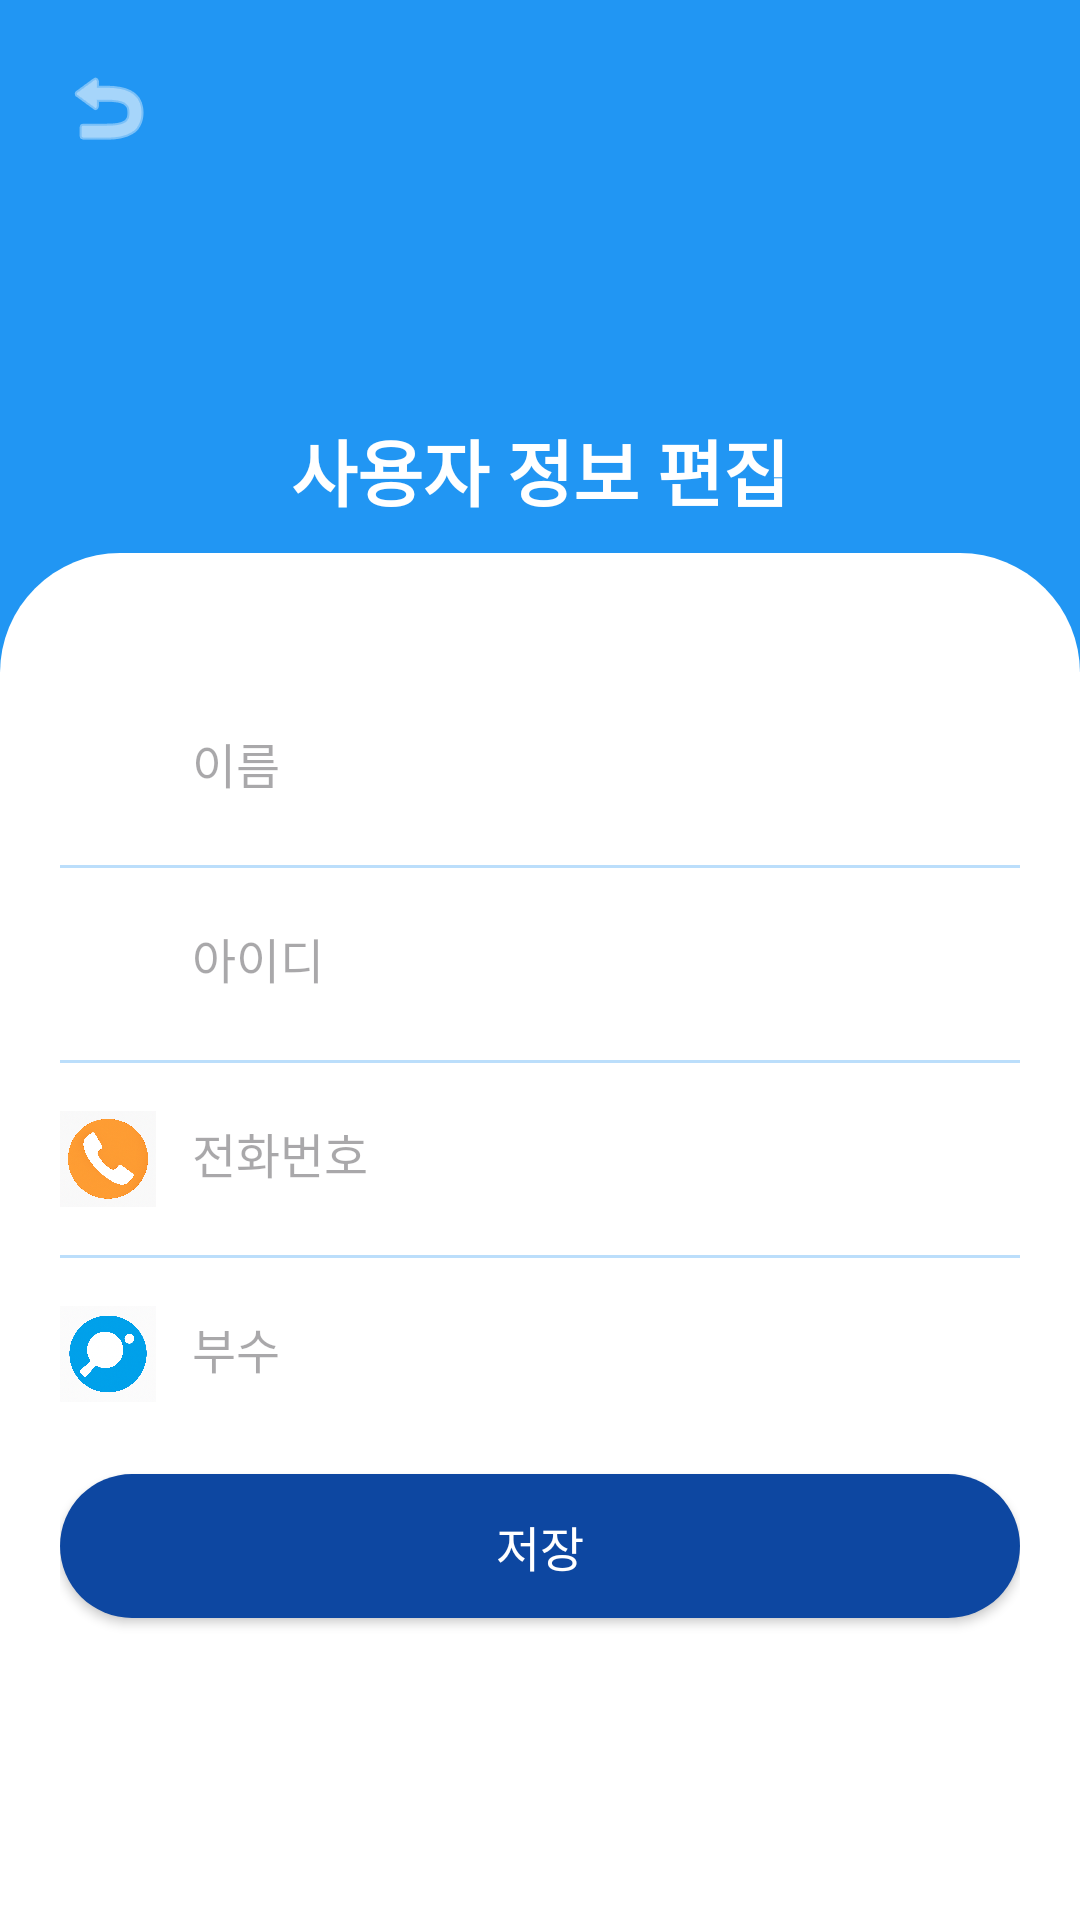

Icon click points for this 1080px×1920px phone screenshot, format [x,y]:
뒤로가기: [109,108]
